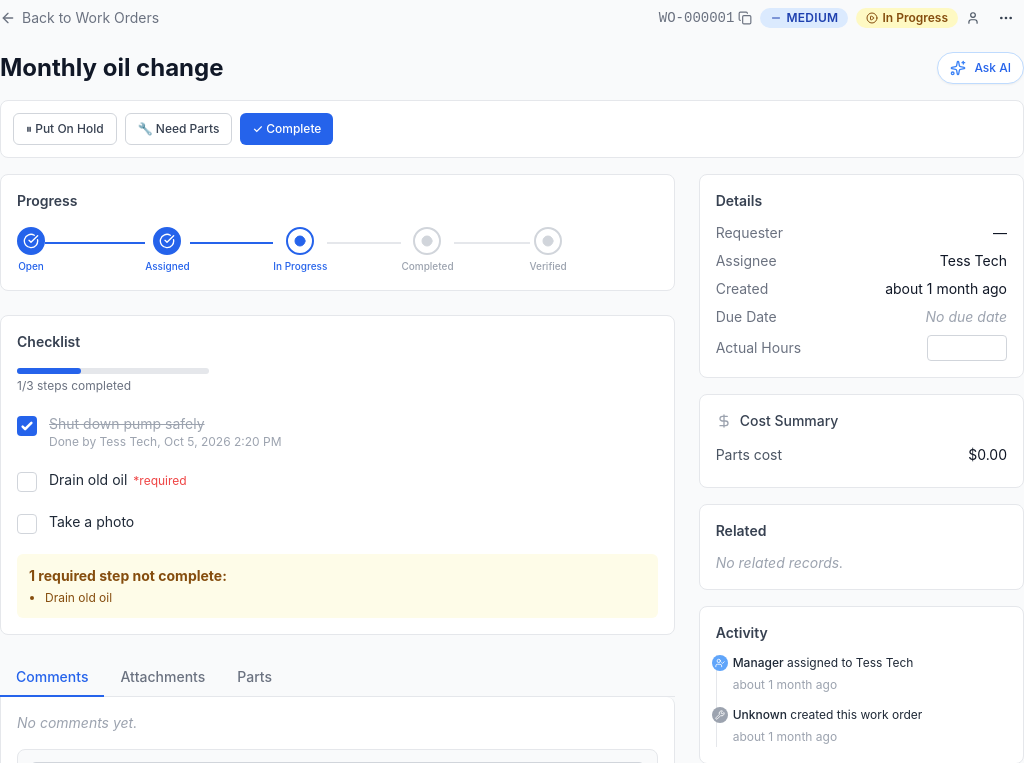
Test: the checklist on a work order › blocks completing the work order until the required steps are done, naming them
Click the button "✓ Complete" at (287,129), box 240,113 -> 333,145
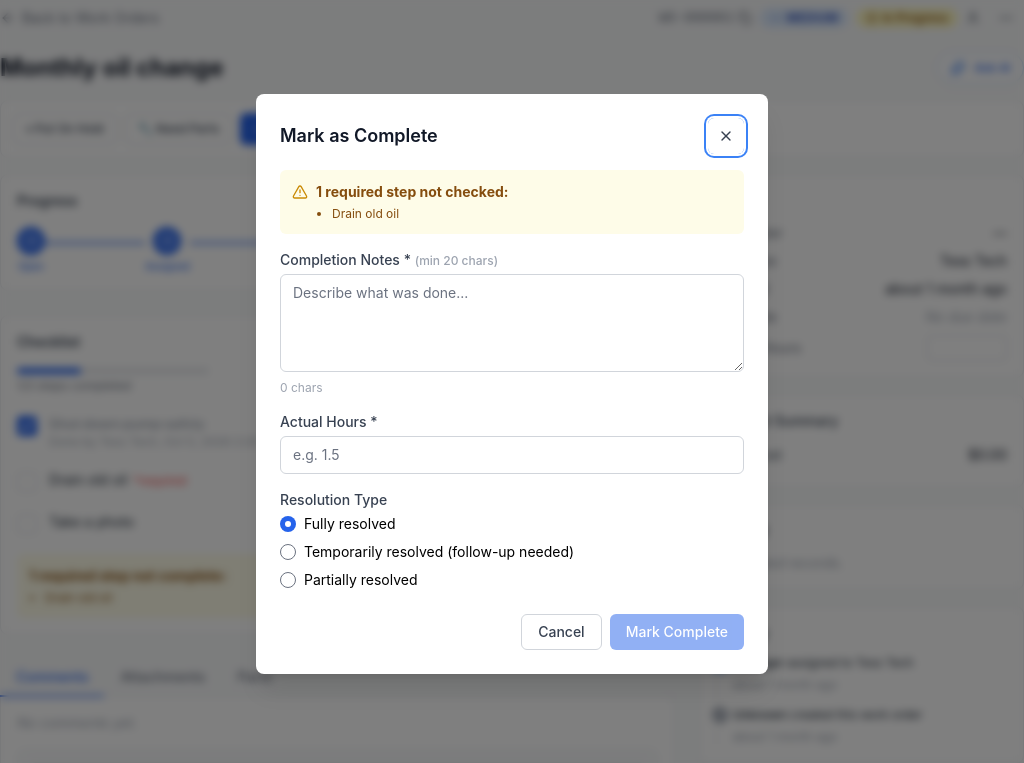
Now the dialog shows "1 required step not checked", box 256,94 -> 768,674
Now the dialog shows "Drain old oil", box 332,206 -> 399,221
